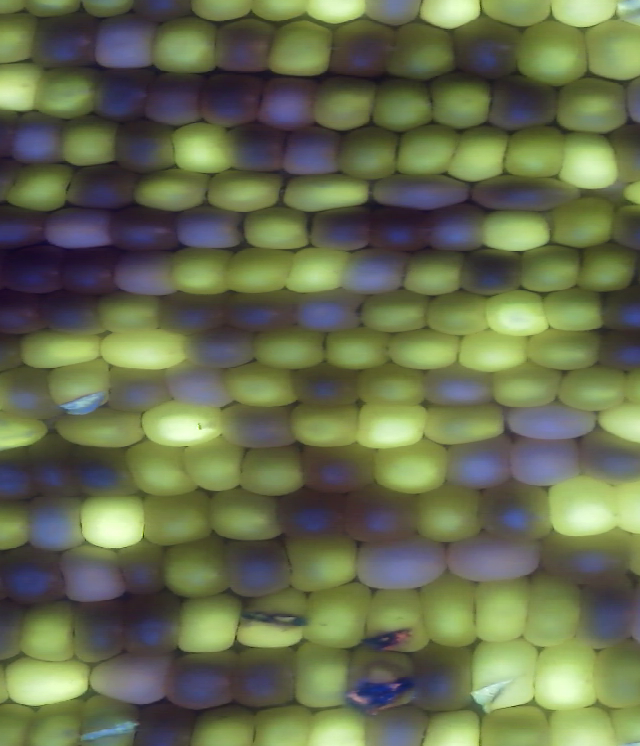fluorescent: (465, 634, 547, 713), (527, 637, 606, 716), (513, 17, 596, 92), (540, 470, 625, 543), (514, 569, 588, 652), (299, 580, 377, 657), (359, 581, 438, 657), (233, 582, 313, 656), (0, 650, 101, 708), (413, 570, 484, 652), (287, 635, 361, 713), (281, 528, 364, 597), (200, 483, 288, 547), (172, 587, 249, 660), (380, 19, 464, 85), (410, 481, 490, 550), (156, 535, 237, 603), (134, 393, 229, 450), (465, 569, 534, 647), (552, 72, 632, 137), (94, 324, 194, 376), (54, 404, 152, 457), (120, 437, 201, 501), (283, 397, 367, 458), (261, 16, 337, 83), (307, 71, 384, 137), (550, 127, 627, 193), (371, 437, 454, 498), (146, 15, 225, 79), (424, 66, 499, 133), (365, 73, 442, 138), (136, 489, 218, 550), (219, 356, 306, 413), (15, 595, 82, 669), (164, 116, 239, 182), (281, 167, 377, 218), (178, 432, 251, 497), (74, 489, 149, 552), (235, 440, 312, 501), (393, 119, 466, 183), (248, 320, 336, 373), (355, 398, 438, 454), (2, 157, 80, 216), (420, 399, 513, 448), (441, 122, 512, 186), (577, 14, 640, 86), (486, 360, 567, 416), (352, 358, 434, 413), (335, 123, 404, 188), (45, 355, 115, 419), (128, 164, 212, 217), (475, 206, 557, 260), (237, 200, 316, 256), (16, 324, 106, 373), (520, 324, 608, 374), (548, 192, 621, 252), (202, 166, 291, 215), (499, 124, 571, 184), (54, 111, 123, 173), (482, 285, 555, 343), (353, 287, 436, 338), (555, 360, 633, 414), (30, 63, 100, 123), (322, 324, 399, 377), (279, 244, 359, 295), (221, 244, 301, 295), (398, 243, 471, 298), (454, 327, 535, 376), (167, 240, 231, 302), (574, 239, 640, 298), (88, 288, 169, 336), (386, 326, 462, 377), (589, 636, 640, 712), (517, 241, 586, 297), (538, 282, 609, 336), (473, 702, 559, 746), (73, 694, 145, 746), (536, 704, 624, 746), (422, 288, 491, 341), (22, 695, 93, 746), (185, 700, 261, 746), (247, 701, 319, 746), (414, 704, 488, 746), (0, 404, 53, 461), (302, 704, 373, 746), (0, 57, 46, 117), (0, 7, 42, 69), (597, 395, 640, 448), (605, 474, 640, 537), (0, 495, 30, 555), (0, 699, 37, 746), (606, 697, 640, 746)
nonfluorescent: (337, 636, 421, 718), (404, 637, 485, 720), (440, 528, 550, 589), (331, 479, 425, 549), (539, 527, 640, 592), (348, 534, 456, 593), (82, 645, 179, 710), (448, 11, 532, 84), (224, 641, 308, 714), (473, 479, 563, 546), (26, 4, 107, 76), (220, 533, 300, 605), (65, 439, 149, 507), (111, 589, 190, 661), (159, 645, 240, 715), (52, 540, 134, 609), (465, 168, 589, 213), (498, 430, 591, 490), (570, 575, 640, 654), (480, 70, 564, 135), (295, 442, 387, 500), (500, 398, 607, 447), (0, 543, 73, 614), (435, 432, 519, 493), (271, 484, 351, 548), (321, 20, 402, 82), (206, 14, 283, 79), (65, 596, 135, 667), (215, 399, 306, 453), (371, 168, 479, 213), (88, 12, 162, 77), (23, 430, 86, 506), (194, 68, 269, 131), (20, 491, 92, 556), (156, 359, 241, 413), (281, 361, 369, 413), (37, 200, 122, 253), (213, 121, 292, 178), (105, 361, 181, 420), (252, 72, 324, 134), (49, 243, 123, 303), (566, 426, 640, 486), (5, 107, 76, 169), (109, 246, 188, 301), (59, 159, 137, 214), (419, 359, 503, 410), (221, 285, 303, 337), (176, 326, 268, 372), (0, 363, 68, 425), (152, 288, 230, 342), (361, 200, 436, 256), (452, 245, 528, 300), (108, 118, 181, 175), (139, 70, 206, 132), (166, 203, 248, 253), (106, 204, 186, 255), (338, 244, 413, 298), (35, 286, 111, 339), (87, 66, 152, 127), (277, 121, 345, 179), (0, 240, 68, 298), (114, 538, 175, 602), (305, 203, 377, 257), (290, 288, 368, 336), (421, 201, 490, 255), (125, 700, 205, 746), (358, 700, 437, 746), (0, 285, 54, 338), (0, 443, 43, 508), (0, 202, 54, 249), (605, 118, 640, 184), (592, 325, 640, 373), (599, 283, 640, 333), (607, 199, 640, 255)
